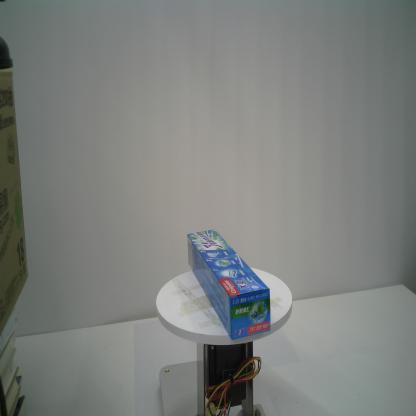Personal Hygiene: (186, 228, 272, 341)
